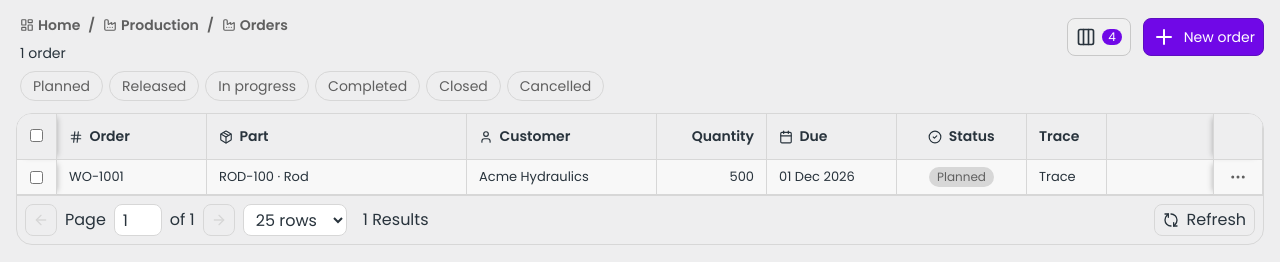
Test: production orders register › filters by status chips in the URL, shows what is filtered and clears it
Later steps or results of the test are not shown.
Expected: the text "WO-1001" is shown, [65,167,128,187]
Click the button "Released". click: (154, 86)
box: [109,71,199,101]
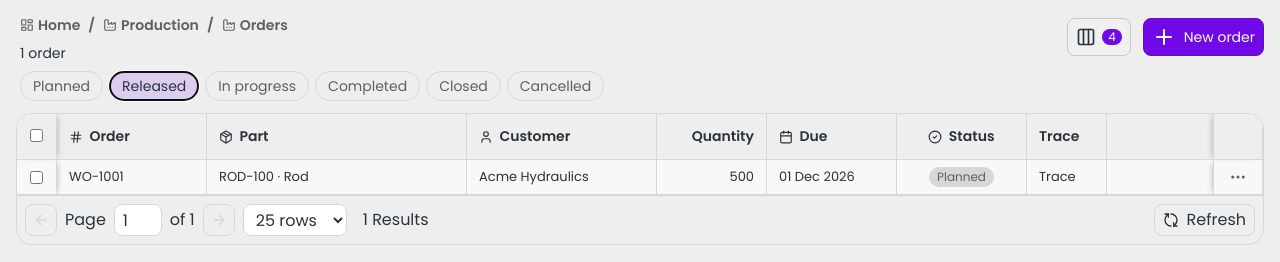
Click the button "In progress". click: (257, 86)
box: [205,71,309,101]
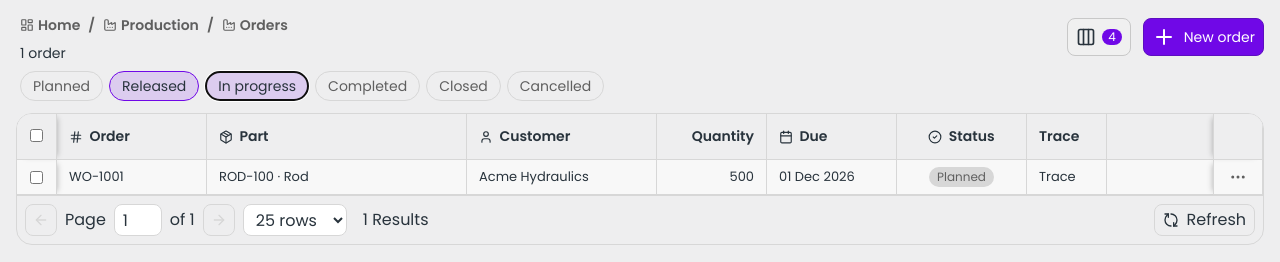
Now the button "Released" is pressed, box [109,71,199,101]
